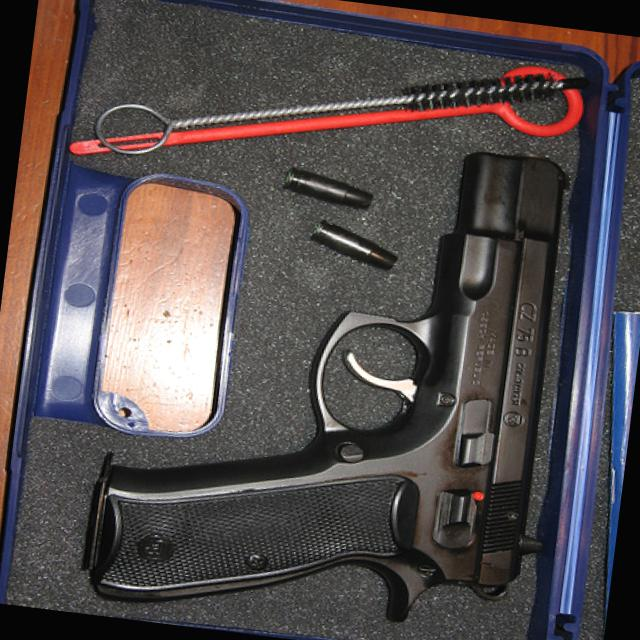handgun: (82, 104, 577, 639)
